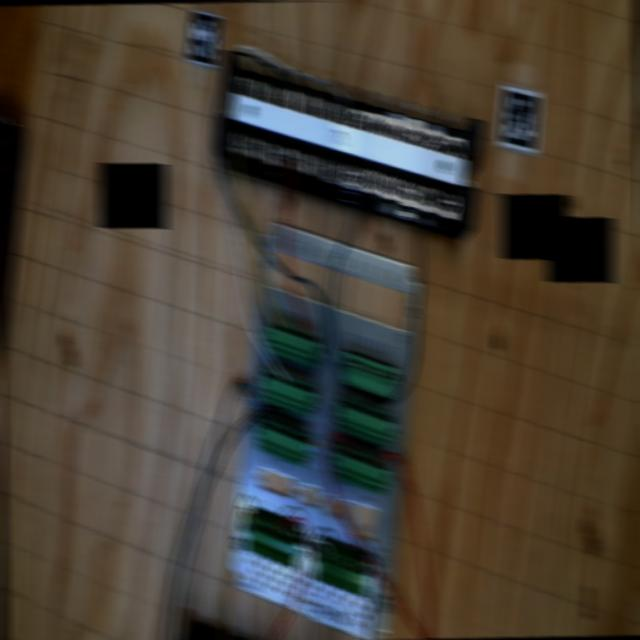Phillips_Block: (196, 48, 502, 227)
Terminal_1: (235, 508, 311, 568), (304, 540, 378, 596)
Terminal_2: (324, 442, 395, 495), (247, 415, 317, 467), (330, 395, 399, 446), (258, 319, 326, 368), (254, 367, 320, 417)
